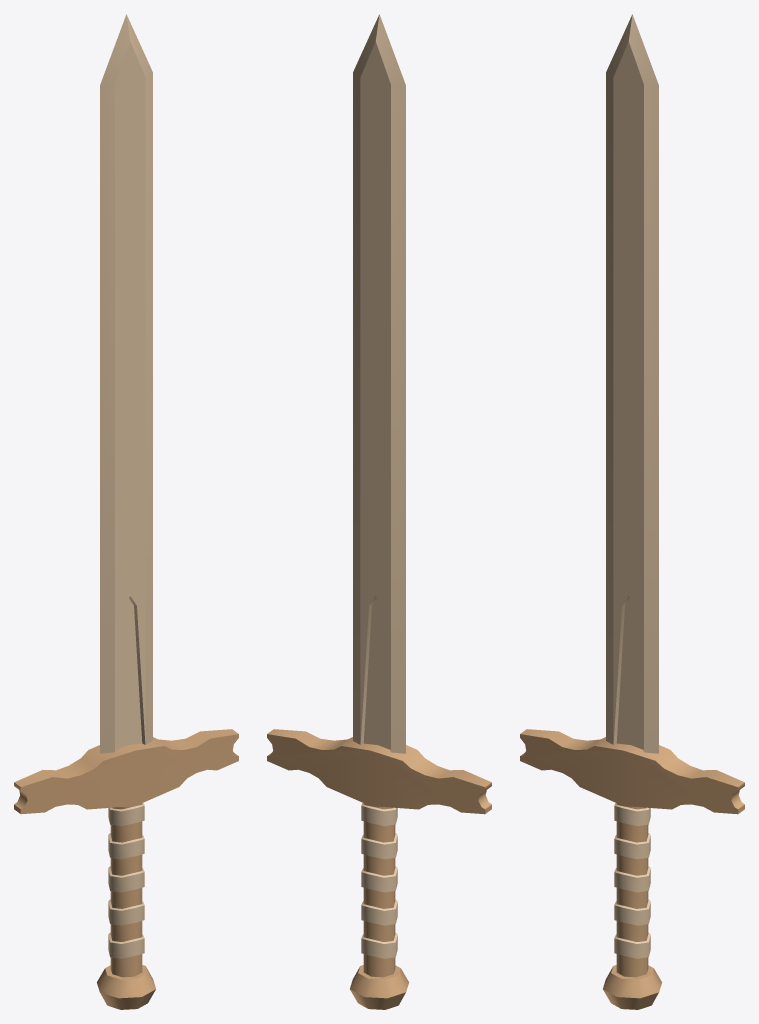
File: WoodenSword.fbx
3 renders of one model, left to right at view 1: azimuth 30°, elevation 25°; view 2: azimuth 150°, elevation 25°; view 3: azimuth 330°, elevation 25°, orthographic.
Parts seen in each view (by area): view 1: WoodenSword; view 2: WoodenSword; view 3: WoodenSword.
Boxes of the visible parts, x1,y1,x2,y2 form: WoodenSword: (14, 14, 238, 1009); WoodenSword: (267, 14, 491, 1009); WoodenSword: (520, 14, 744, 1009).
Bounding box in the file's own units: 41.16 × 178 × 10.07.
